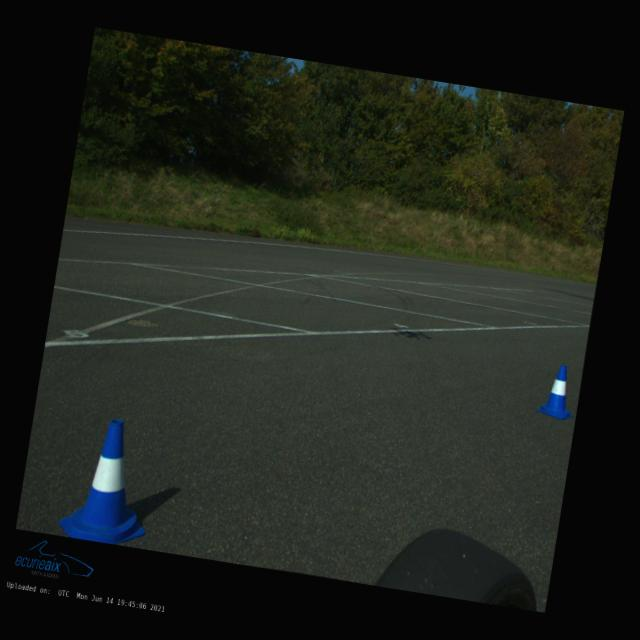blue_cone: (57, 413, 162, 549), (536, 362, 580, 422)
